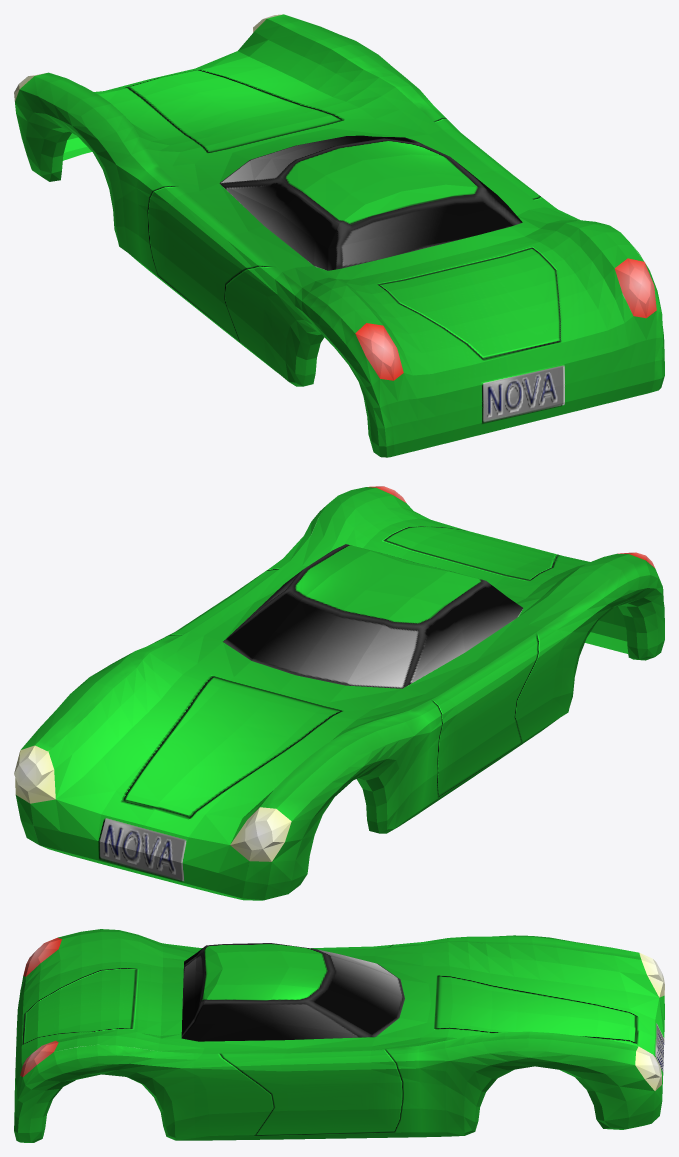
File: NovaCar.obj
3 views of the same model, one above another, from view 1: azimuth 30°, elevation 25°; view 2: azimuth 150°, elevation 25°; view 3: azimuth 270°, elevation 25° (orthographic). The views are drawn at different scales.
Parts seen in each view (by area): view 1: Car_Plane; view 2: Car_Plane; view 3: Car_Plane.
Part boxes in pixels (x1,y1,x2,y2): Car_Plane: (14,14,664,457); Car_Plane: (14,486,664,900); Car_Plane: (14,929,664,1142).
Size of the model in its own units: 2.95 by 1.36 by 6.44.
